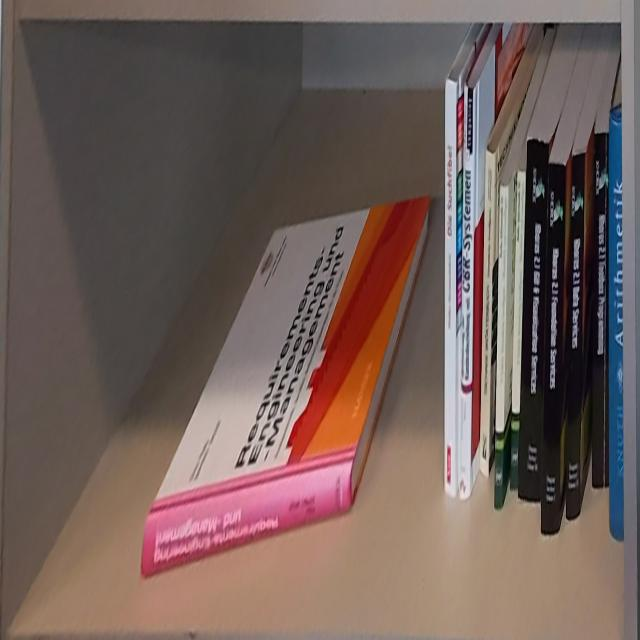Book Spine: (141, 458, 354, 582), (519, 137, 551, 502), (542, 163, 567, 536), (457, 79, 478, 501), (565, 148, 587, 520), (444, 79, 460, 500), (592, 130, 610, 486), (478, 146, 497, 478), (509, 169, 527, 490), (493, 182, 510, 509), (610, 110, 622, 542)
